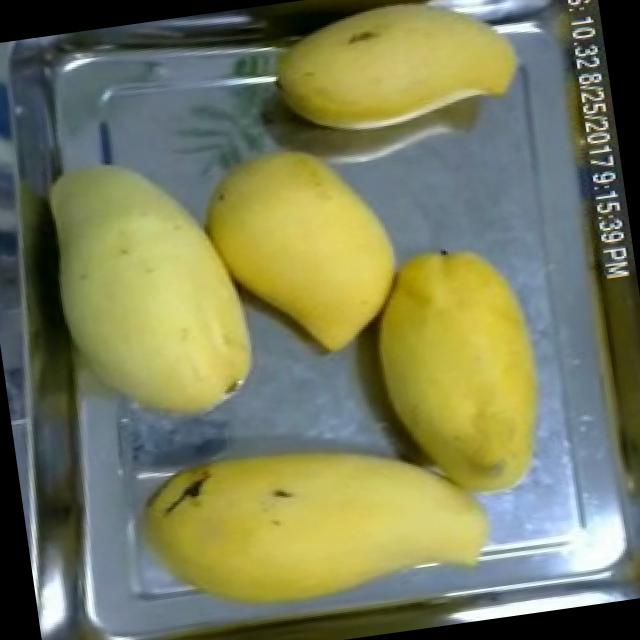fruit: (119, 402, 508, 638), (24, 130, 279, 448), (350, 223, 568, 522), (186, 119, 417, 377), (256, 0, 537, 156)
